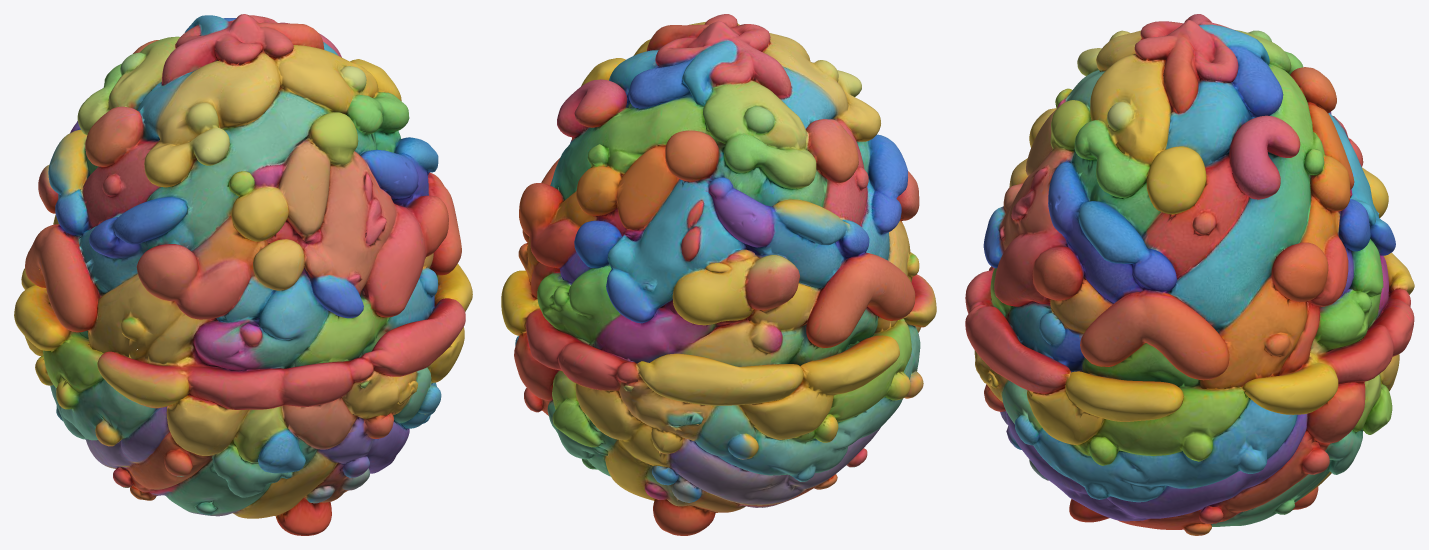
The model's file is env_nest_egg_rainbow_01.glb.
The picture shows the model from 3 angles, left to right: view 1: azimuth 30°, elevation 25°; view 2: azimuth 150°, elevation 25°; view 3: azimuth 270°, elevation 25°; orthographic projection. The views are drawn at different scales.
Parts seen in each view (by area): view 1: tripo_node_c9e175fc-1c4c-49a6-bba4-4fab4735e8a8; view 2: tripo_node_c9e175fc-1c4c-49a6-bba4-4fab4735e8a8; view 3: tripo_node_c9e175fc-1c4c-49a6-bba4-4fab4735e8a8.
Boxes of the visible parts, x1,y1,x2,y2 form: tripo_node_c9e175fc-1c4c-49a6-bba4-4fab4735e8a8: [14, 14, 472, 535]; tripo_node_c9e175fc-1c4c-49a6-bba4-4fab4735e8a8: [501, 14, 936, 535]; tripo_node_c9e175fc-1c4c-49a6-bba4-4fab4735e8a8: [965, 14, 1414, 535].
Size of the model in its own units: 1.7 by 2 by 1.66.
Materials: 1 (1 with a texture image).
